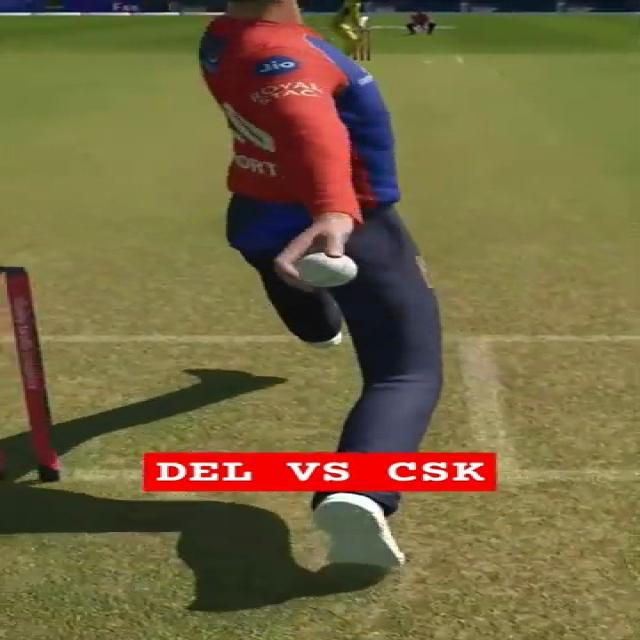ball: (295, 249, 357, 288)
